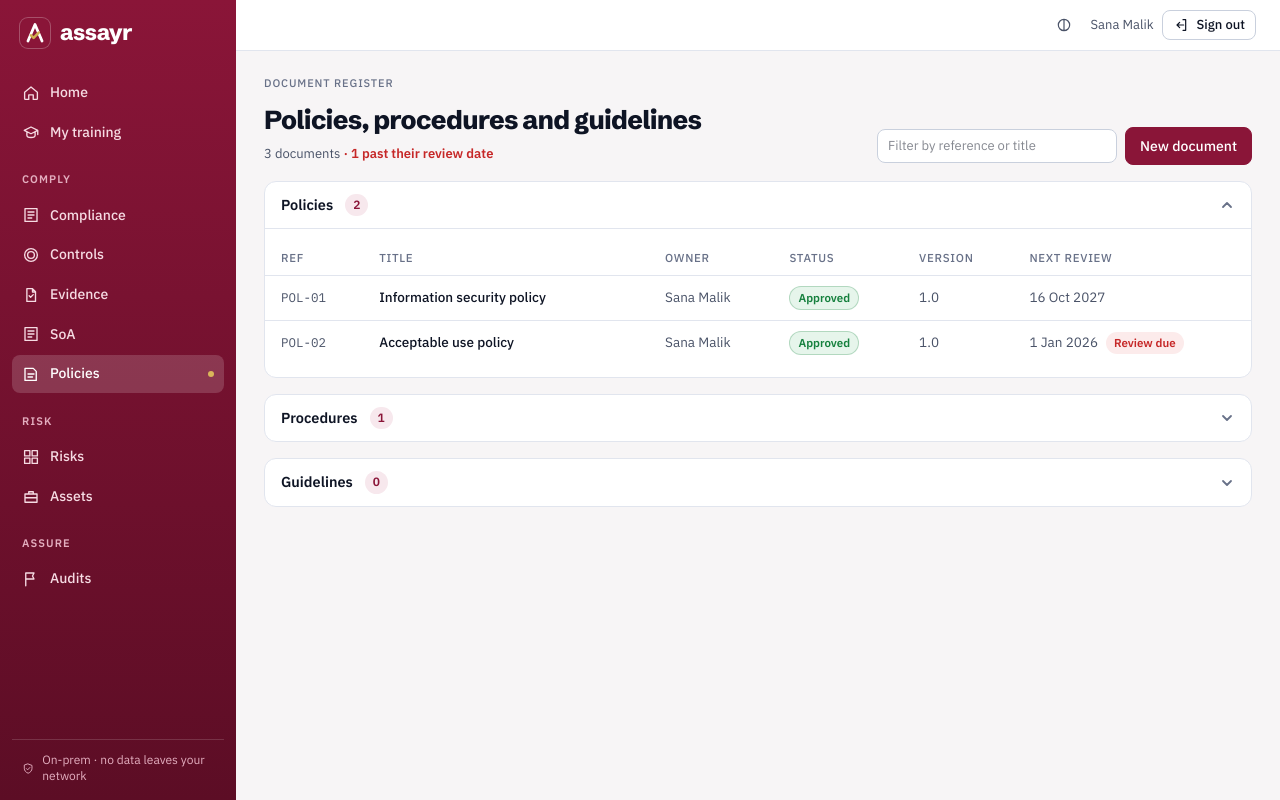
Test case: three sections with counts that expand to list their documents
Expected: the heading "Policies, procedures and guidelines" is shown, [264,100,702,140]
Expected: the button "Procedures 1" is shown, [265,395,1251,441]
Click the button "Policies 2": coordinates (307, 204) [265,182,1251,228]
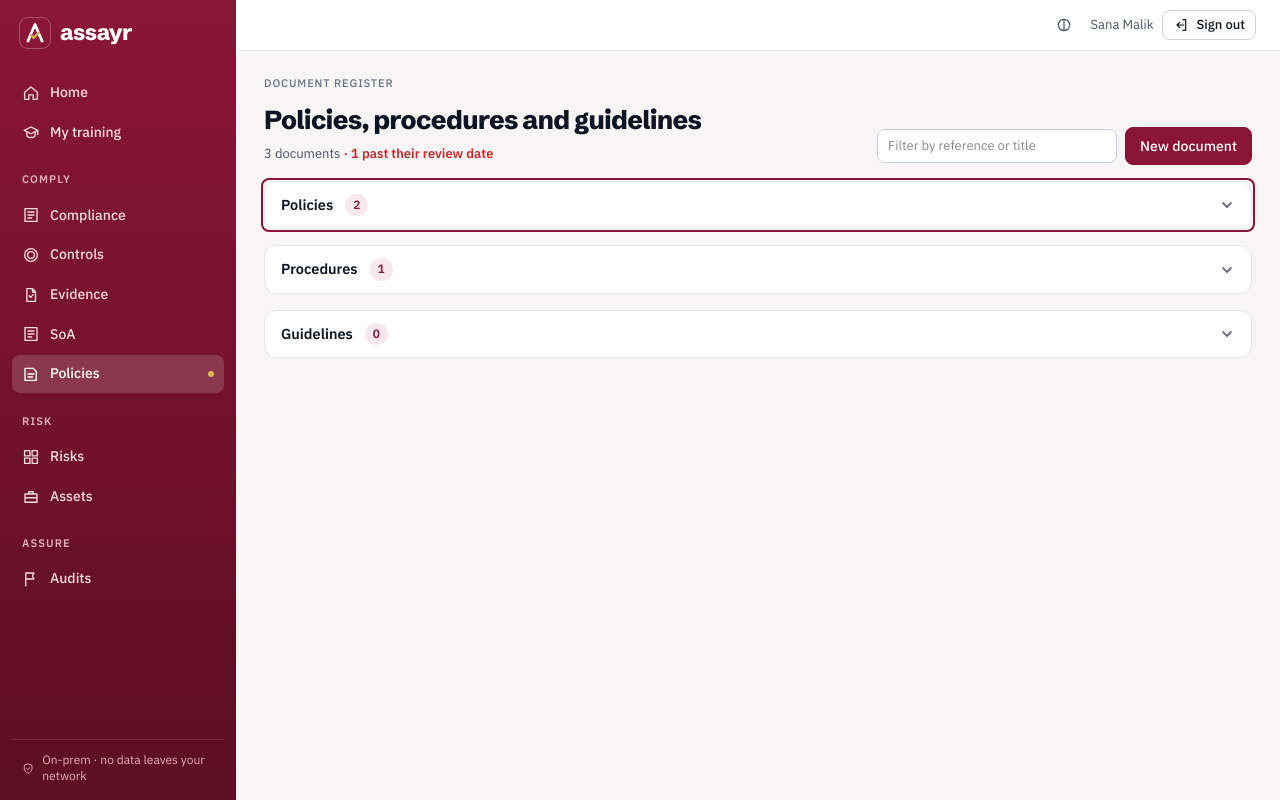
Expected: the button "Policies 2" is collapsed, [265,182,1251,228]
